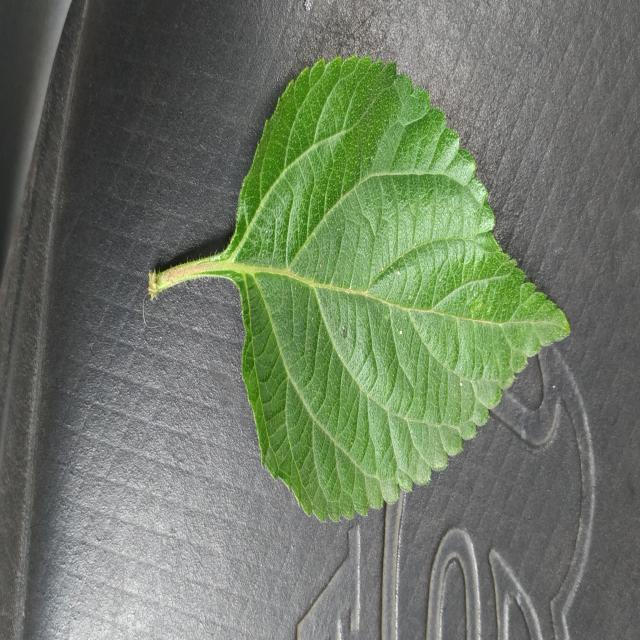Lantana: (176, 58, 569, 520)
